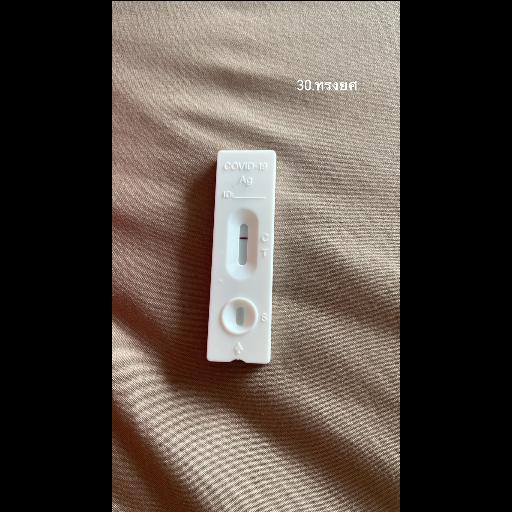Neg: (207, 149, 276, 363)
